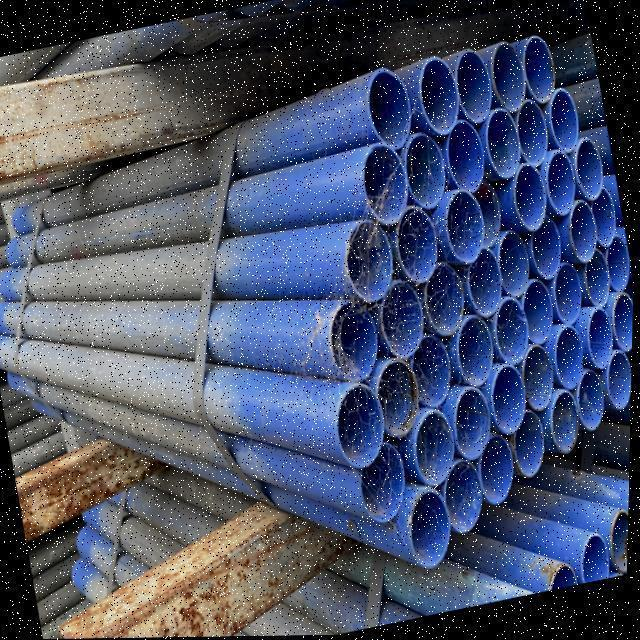pipe: (330, 378, 397, 471), (324, 293, 389, 386), (337, 212, 403, 303), (354, 436, 419, 526), (355, 137, 416, 229), (358, 63, 419, 154), (370, 353, 430, 440), (404, 483, 463, 571), (374, 274, 433, 361), (389, 199, 446, 286), (407, 404, 464, 490), (398, 127, 454, 212), (412, 51, 465, 137), (439, 453, 494, 534), (439, 112, 492, 195), (440, 183, 493, 266), (419, 256, 473, 337), (406, 329, 460, 410), (448, 382, 502, 461), (448, 43, 499, 125), (451, 310, 503, 389), (474, 426, 524, 506), (486, 358, 536, 436), (461, 242, 511, 319), (484, 35, 532, 114), (480, 100, 527, 180), (489, 290, 537, 368), (507, 403, 555, 478), (507, 157, 553, 234), (517, 339, 564, 413), (493, 225, 539, 300), (517, 272, 562, 347), (510, 93, 554, 169), (544, 383, 589, 455), (518, 32, 561, 104), (539, 146, 582, 217), (525, 210, 568, 281), (550, 321, 593, 390), (563, 196, 605, 265), (544, 83, 585, 153), (548, 257, 590, 325), (468, 176, 507, 249), (572, 364, 614, 431), (582, 303, 623, 371), (570, 132, 610, 201), (578, 245, 616, 307), (577, 527, 617, 585), (599, 231, 636, 292), (600, 344, 634, 410), (588, 183, 622, 247), (607, 287, 635, 352), (605, 505, 631, 573), (548, 559, 583, 592)
